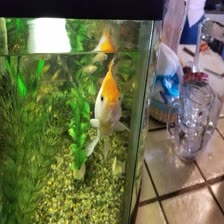Cuezo: (83, 54, 130, 158)
